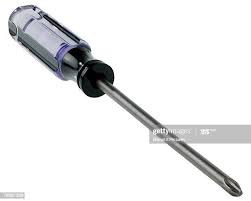Screwdriver: (7, 5, 249, 197)
